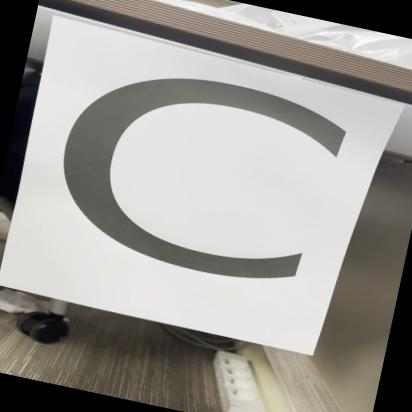seat: (0, 18, 390, 354)
